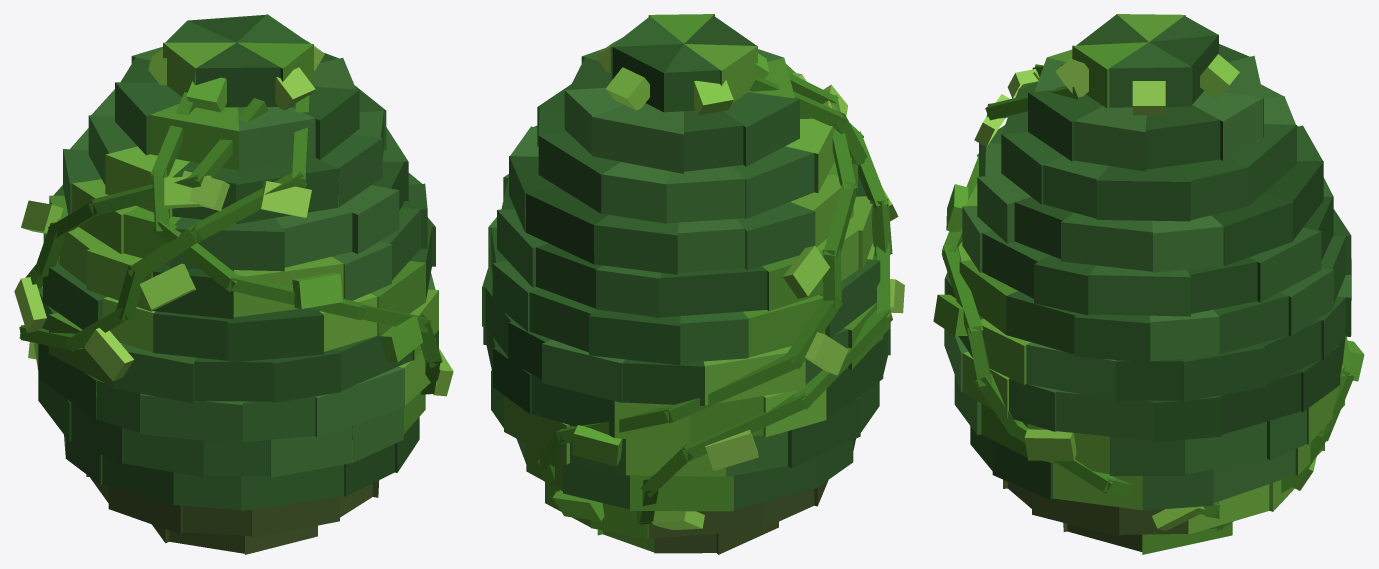
The model's file is swamp_egg.glb.
3 renders of one model, left to right at view 1: azimuth 30°, elevation 25°; view 2: azimuth 150°, elevation 25°; view 3: azimuth 270°, elevation 25°, orthographic.
Visible parts, largest first — view 1: swamp_egg; view 2: swamp_egg; view 3: swamp_egg.
Part boxes in pixels (x1,y1,x2,y2): swamp_egg: (14,14,453,554); swamp_egg: (482,14,904,554); swamp_egg: (933,14,1364,554).
Bounding box in the file's own units: 0.8909 × 1.1 × 0.9114.
